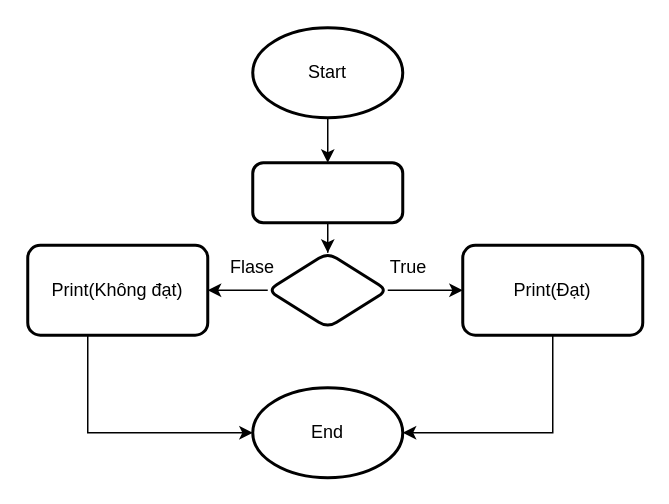
This 669x504 diagram has some shape labels left out. The box of each missing label's shape, as (x1, y1, x2, y2) in pixels:
If N>5 then: (266, 250, 388, 328)
Input N: (250, 160, 404, 224)
